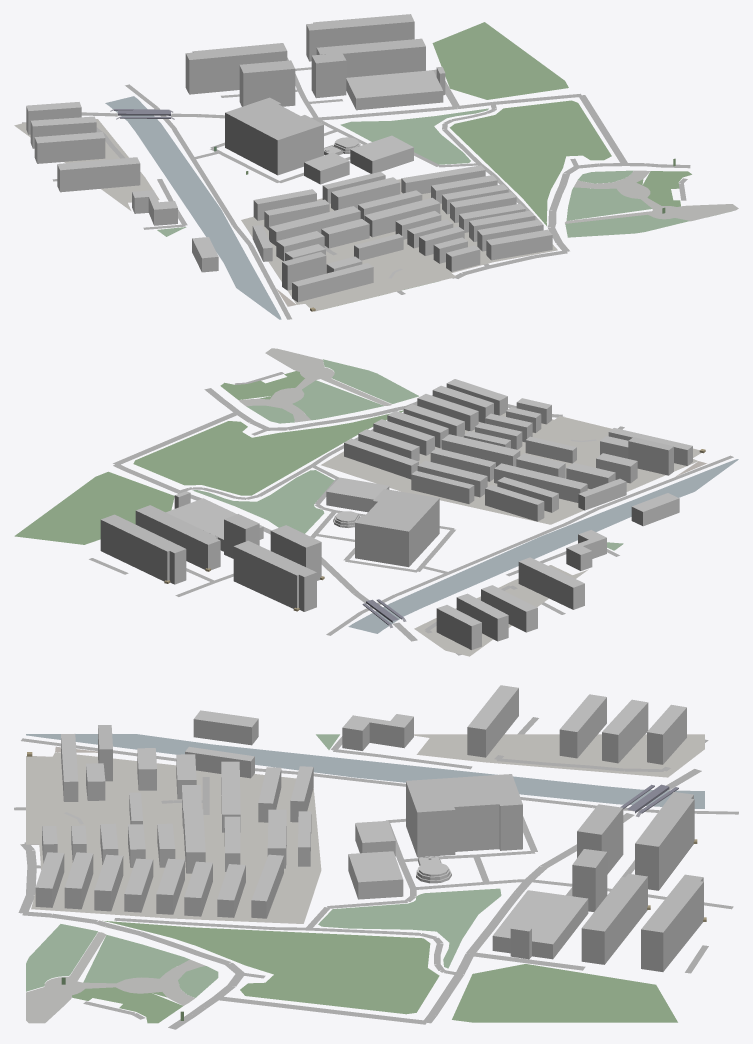
3 renders of one model, top to bottom at view 1: azimuth 30°, elevation 25°; view 2: azimuth 150°, elevation 25°; view 3: azimuth 270°, elevation 25°, orthographic. The views are drawn at different scales.
Bounding box in the file's own units: 547 × 40.81 × 534.
